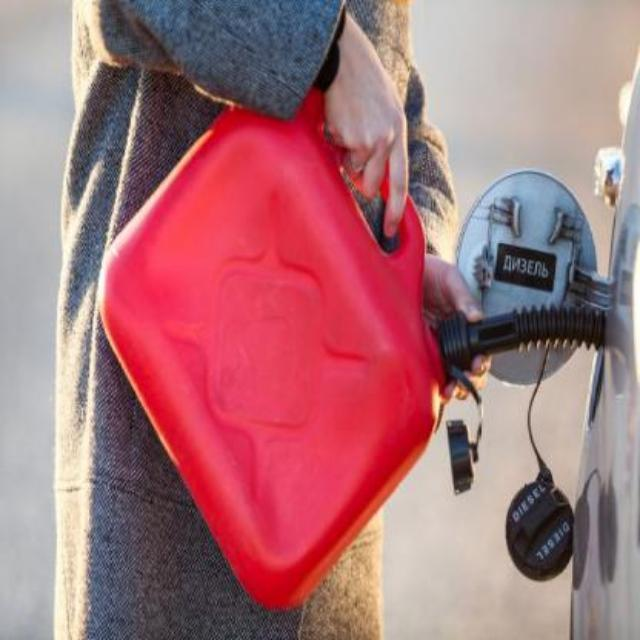chemical_plastic_gallon: (100, 82, 450, 612)
